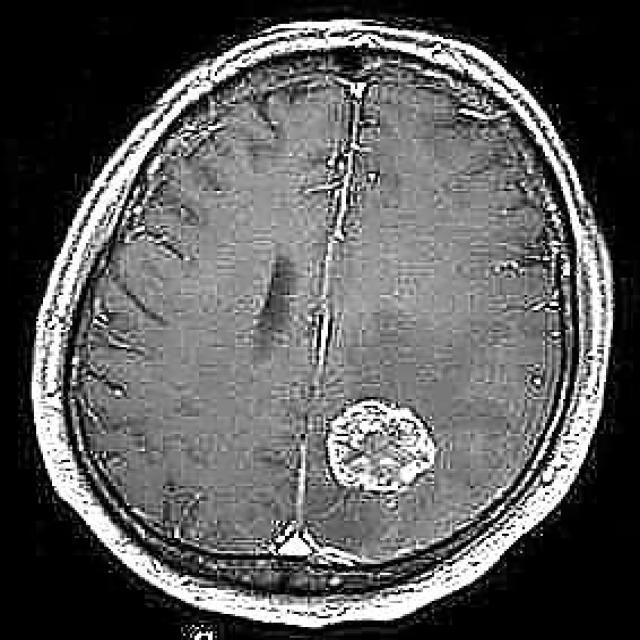Tumor: (324, 395, 444, 498)
